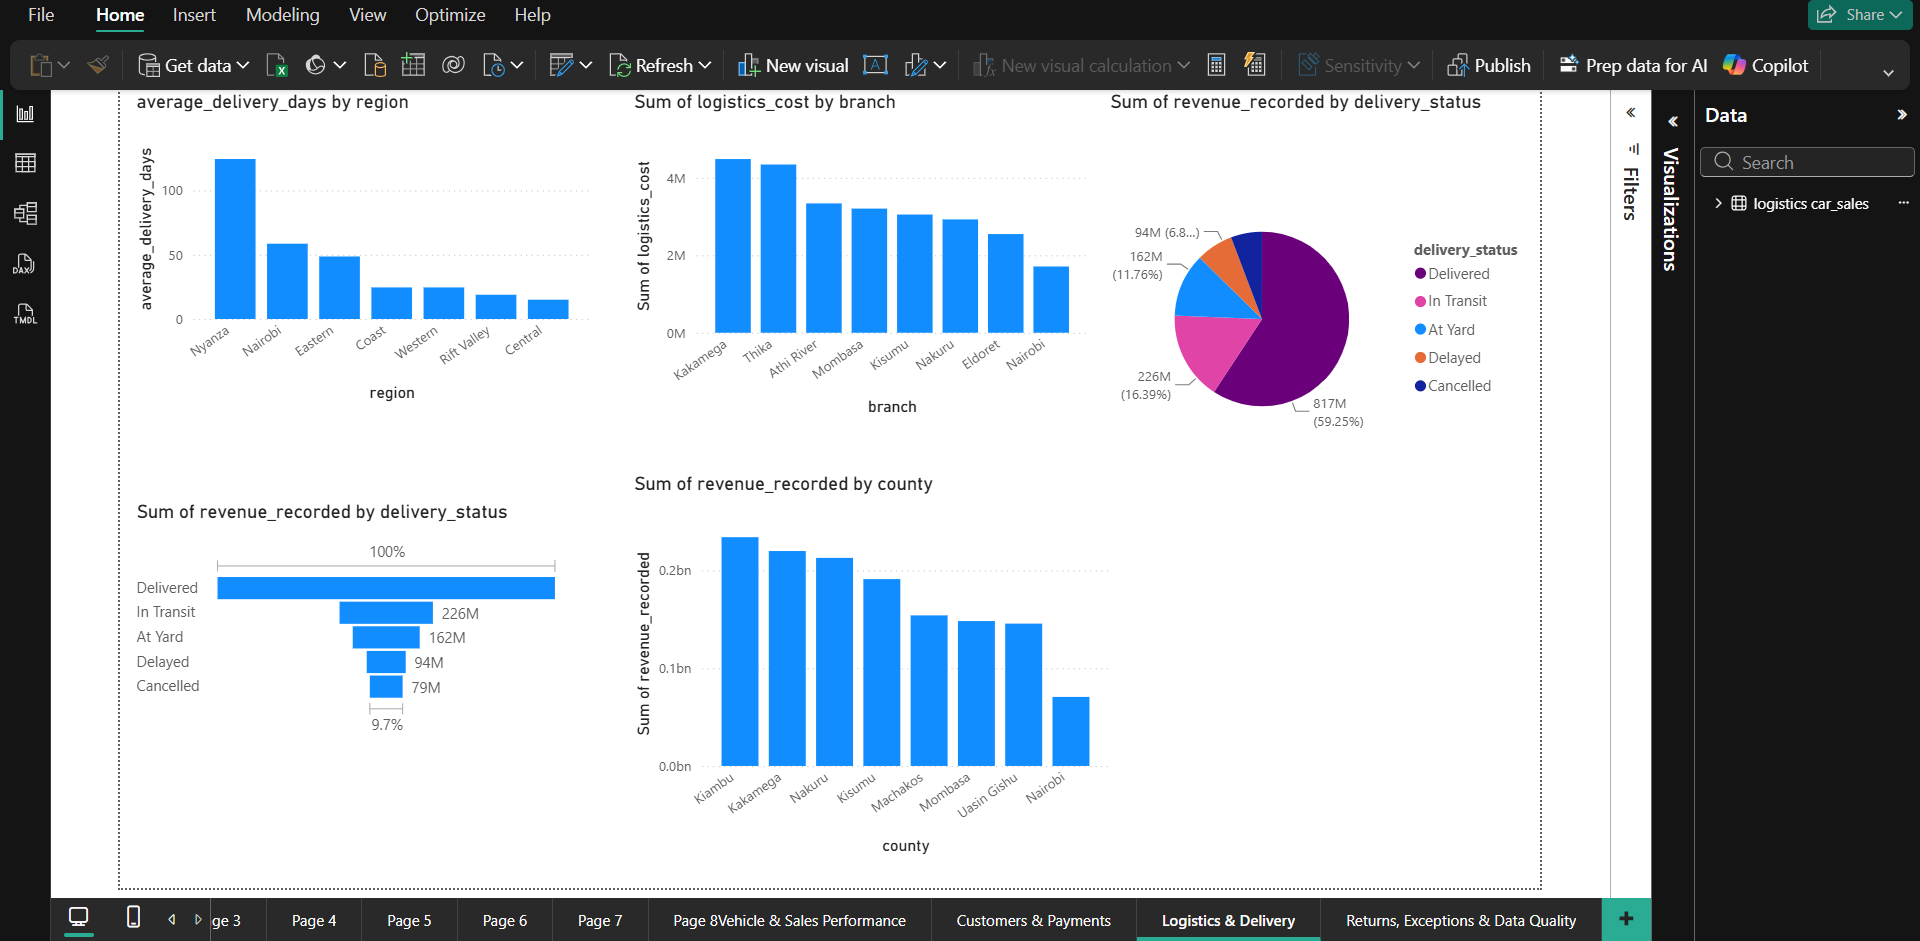

The dashboard page shown, as its layout file describes it:
{"tool":"powerbi","page":{"name":"Logistics & Delivery","canvas":[1280,720],"ordinal":10},"visuals":[{"type":"clusteredColumnChart","fields":{"Y":["logistics car_sales.average_delivery_days"],"Category":["logistics car_sales.region"]},"box":[10,0,629.4,359.5],"z":0},{"type":"funnel","fields":{"Category":["logistics car_sales.delivery_status"],"Y":["Sum(logistics car_sales.revenue_recorded)"]},"box":[10,369.5,654.3,350.8],"z":1},{"type":"clusteredColumnChart","fields":{"Y":["Sum(logistics car_sales.logistics_cost)"],"Category":["logistics car_sales.branch"]},"box":[682.9,0,553.6,359.5],"z":2},{"type":"clusteredColumnChart","fields":{"Category":["logistics car_sales.county"],"Y":["Sum(logistics car_sales.revenue_recorded)"]},"box":[682.9,369.5,553.6,349.6],"z":3}]}

Visuals, with their boxes on the page's 1280x720 design canvas (x1, y1, x2, y2). These are canvas units, not pixel positions in the 1920x941 screenshot, which may show the page scaled, cropped or inside an application window:
clusteredColumnChart - logistics car_sales.average_delivery_days x logistics car_sales.region: x1=10 y1=0 x2=639 y2=360
funnel - logistics car_sales.delivery_status x Sum(logistics car_sales.revenue_recorded): x1=10 y1=370 x2=664 y2=720
clusteredColumnChart - Sum(logistics car_sales.logistics_cost) x logistics car_sales.branch: x1=683 y1=0 x2=1236 y2=360
clusteredColumnChart - logistics car_sales.county x Sum(logistics car_sales.revenue_recorded): x1=683 y1=370 x2=1236 y2=719
